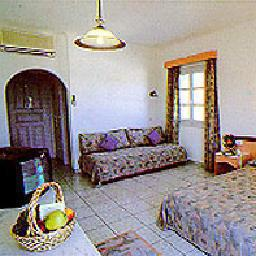Cama: (3, 171, 102, 255), (159, 167, 254, 238)
Puerta: (12, 83, 54, 153)
Ventana: (171, 62, 216, 126)
